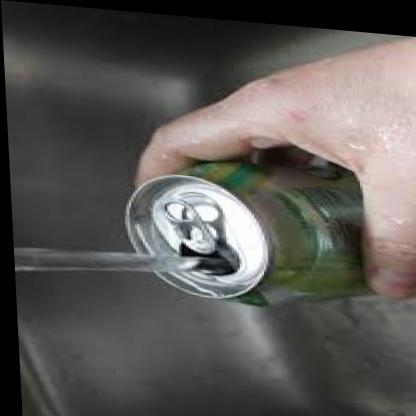Aerosols: (104, 130, 390, 328)
